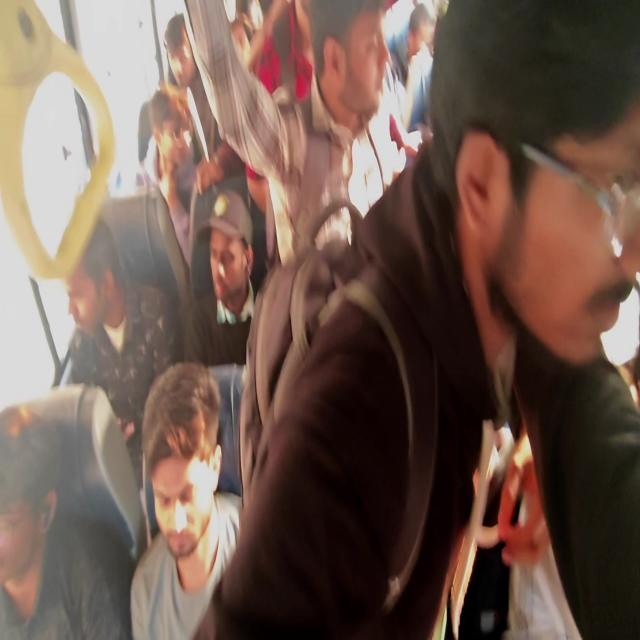person: (448, 4, 640, 404), (136, 368, 220, 546), (0, 391, 82, 570), (60, 211, 141, 350), (312, 0, 387, 135), (201, 190, 264, 312), (163, 16, 214, 112), (143, 89, 200, 160), (226, 14, 266, 69), (406, 6, 435, 68), (284, 0, 311, 55)
